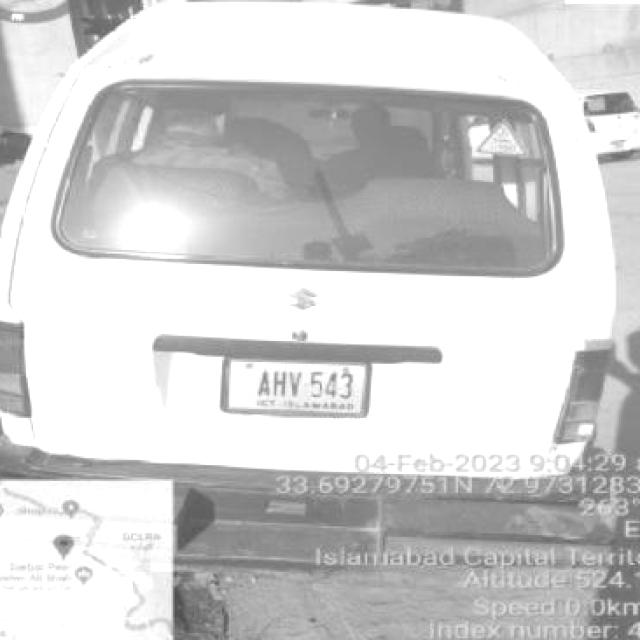licenseplate: (230, 355, 375, 423), (610, 139, 636, 151)
